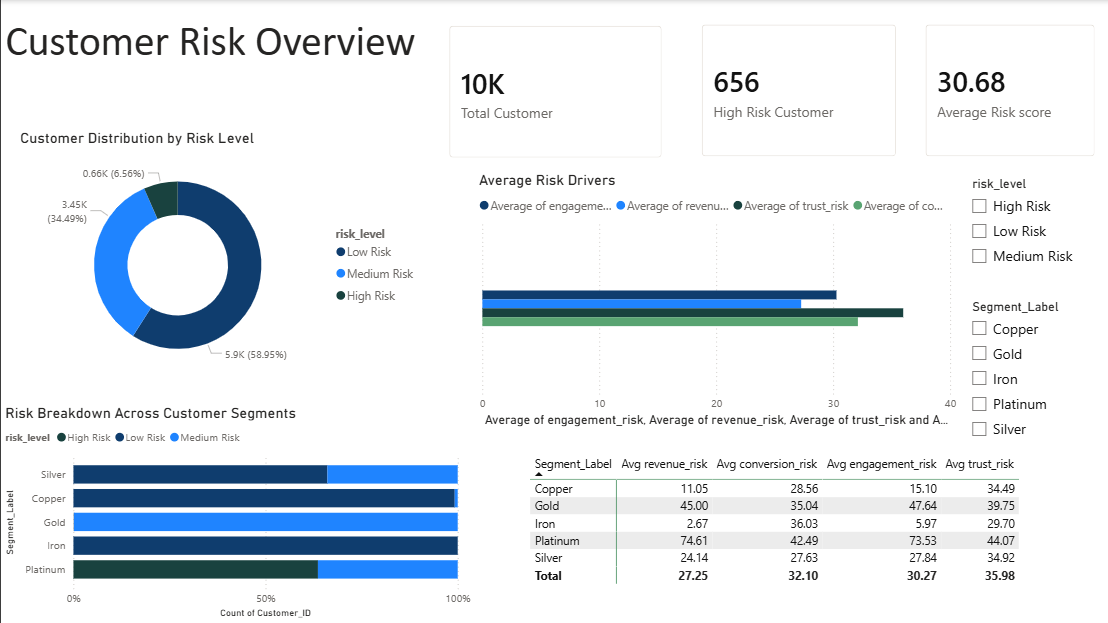

The dashboard page shown, as its layout file describes it:
{"tool":"powerbi","page":{"name":"Page 1","canvas":[1280,720],"ordinal":0},"visuals":[{"type":"cardVisual","fields":{"Data":["CountNonNull(customer_risk_scores.Customer_ID)"]},"box":[500.6,13,279.9,186.1],"z":0},{"type":"cardVisual","fields":{"Data":["CountNonNull(customer_risk_scores.Customer_ID)"]},"box":[792.1,11.5,258.3,186.1],"z":1000},{"type":"cardVisual","fields":{"Data":["Avg(customer_risk_scores.customer_risk_score)"]},"box":[1050.3,11.5,229.4,186.1],"z":2000},{"type":"textbox","box":[0,12.8,512,106.7],"z":3000},{"type":"donutChart","title":"Customer Distribution by Risk Level","fields":{"Category":["customer_risk_scores.risk_level"],"Y":["CountNonNull(customer_risk_scores.Customer_ID)"]},"box":[17.4,149.3,472.7,296.1],"z":4000},{"type":"hundredPercentStackedBarChart","title":"Risk Breakdown Across Customer Segments","fields":{"Category":["customer_risk_scores.Segment_Label"],"Y":["CountNonNull(customer_risk_scores.Customer_ID)"],"Series":["customer_risk_scores.risk_level"]},"box":[0,466.5,547.3,252.5],"z":5000},{"type":"clusteredBarChart","title":"Average Risk Drivers","fields":{"Y":["Avg(customer_risk_scores.engagement_risk)","Avg(customer_risk_scores.revenue_risk)","Avg(customer_risk_scores.trust_risk)","Avg(customer_risk_scores.conversion_risk)"]},"box":[547.3,197.8,561,299.8],"z":6000},{"type":"slicer","fields":{"Values":["customer_risk_scores.Segment_Label"]},"box":[1108,340.5,142.8,178.9],"z":7000},{"type":"slicer","fields":{"Values":["customer_risk_scores.risk_level"]},"box":[1108,199.1,171.7,132.7],"z":8000},{"type":"pivotTable","fields":{"Rows":["customer_risk_scores.Segment_Label"],"Values":["Avg(customer_risk_scores.revenue_risk)","Avg(customer_risk_scores.conversion_risk)","Avg(customer_risk_scores.engagement_risk)","Avg(customer_risk_scores.trust_risk)"]},"box":[605.8,518.7,588.4,176.6],"z":9000}]}

Visuals, with their boxes in screenshot pixels (x1, y1, x2, y2), scaled from the page's 1280x720 canvas onto the 1108x623 screenshot:
cardVisual - CountNonNull(customer_risk_scores.Customer_ID): detection(433, 11, 676, 172)
cardVisual - CountNonNull(customer_risk_scores.Customer_ID): detection(686, 10, 909, 171)
cardVisual - Avg(customer_risk_scores.customer_risk_score): detection(909, 10, 1107, 171)
textbox: detection(0, 11, 443, 103)
"Customer Distribution by Risk Level" donutChart: detection(15, 129, 424, 385)
"Risk Breakdown Across Customer Segments" hundredPercentStackedBarChart: detection(0, 404, 474, 622)
"Average Risk Drivers" clusteredBarChart: detection(474, 171, 959, 431)
slicer - customer_risk_scores.Segment_Label: detection(959, 295, 1083, 449)
slicer - customer_risk_scores.risk_level: detection(959, 172, 1107, 287)
pivotTable - customer_risk_scores.Segment_Label x Avg(customer_risk_scores.revenue_risk): detection(524, 449, 1034, 602)
